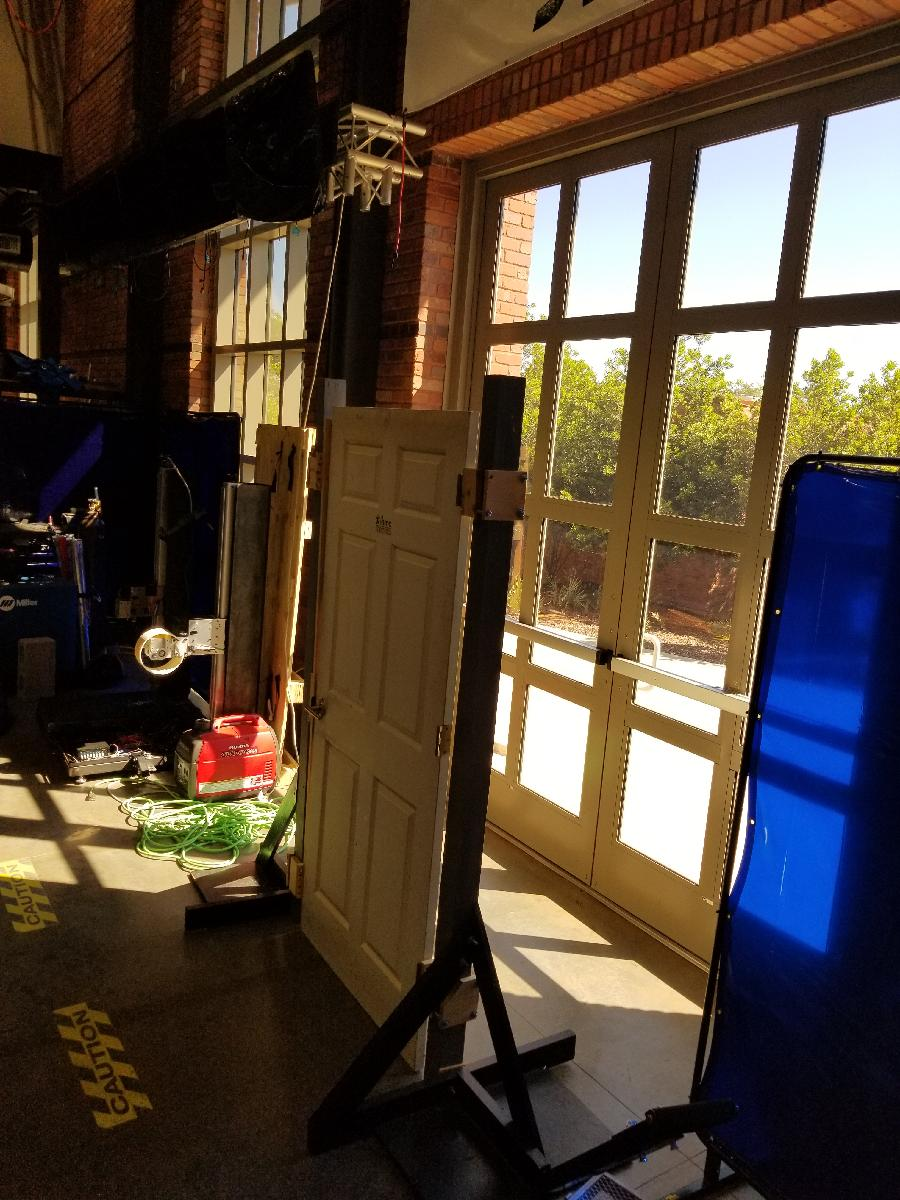door: (297, 400, 482, 1081)
doorHandle: (299, 692, 334, 729)
